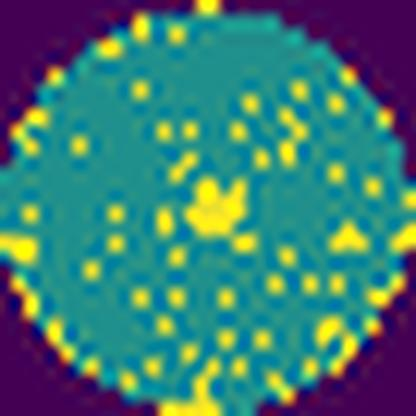Center: (179, 171, 257, 251)
